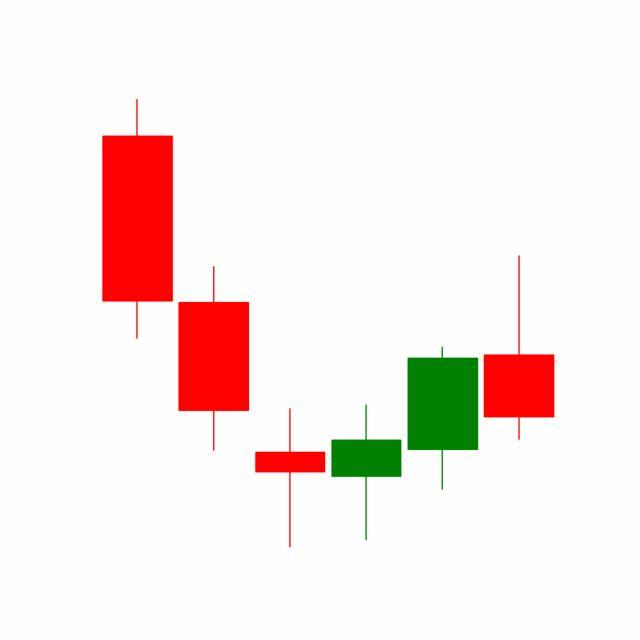Three Outside Up-Down: (252, 344, 482, 549)
